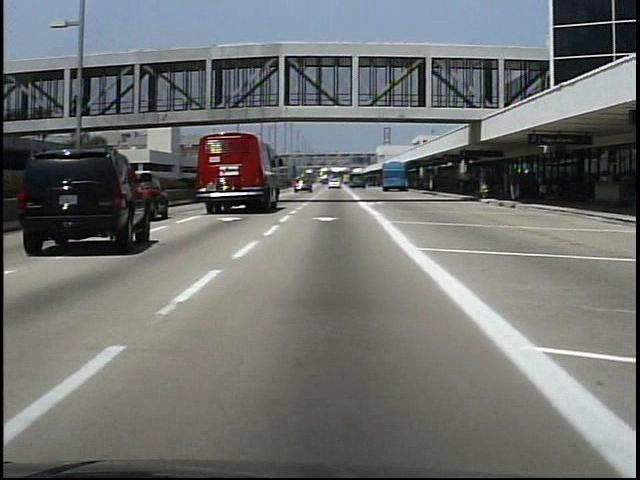person: (535, 170, 552, 205)
